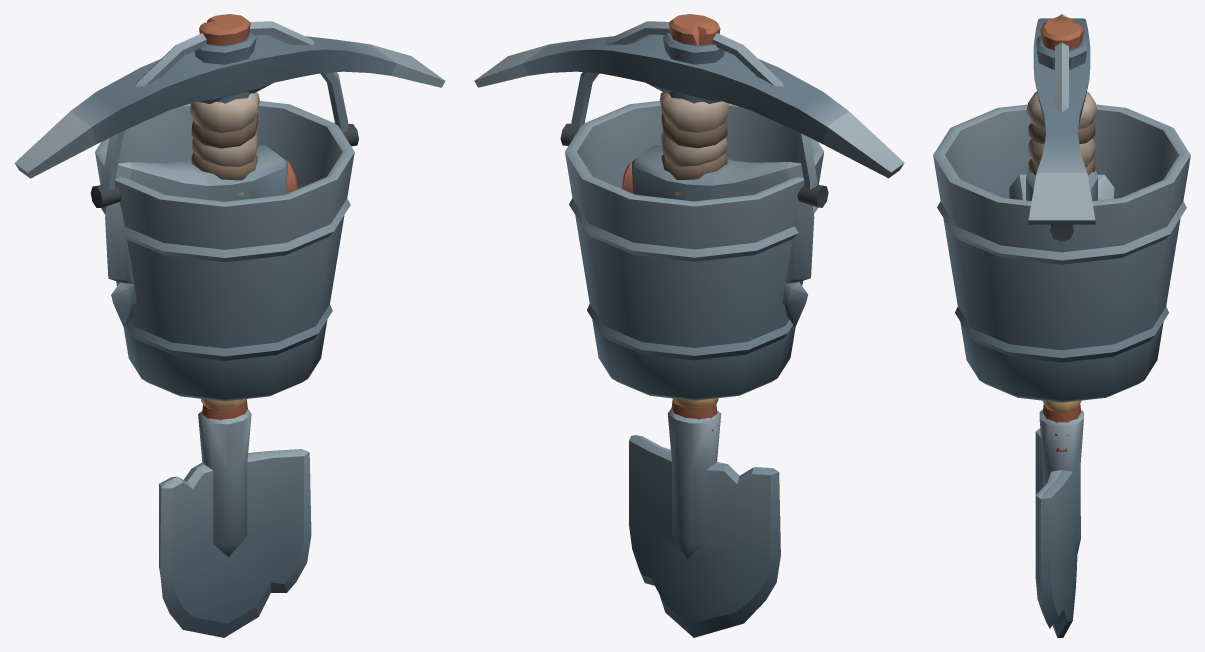
Rendered from tools.glb.
The picture shows the model from 3 angles, left to right: view 1: azimuth 30°, elevation 25°; view 2: azimuth 150°, elevation 25°; view 3: azimuth 270°, elevation 25°; orthographic projection.
Parts seen in each view (by area): view 1: bucket_metal, shovel, pickaxe, axe, torch, bucket_metal_handle; view 2: bucket_metal, shovel, pickaxe, axe, torch, bucket_metal_handle; view 3: bucket_metal, pickaxe, shovel, torch, bucket_metal_handle, hammer, axe.
Boxes of the visible parts, x1,y1,x2,y2 form: bucket_metal: (95, 101, 354, 401); shovel: (159, 158, 311, 637); pickaxe: (14, 14, 445, 407); axe: (105, 145, 287, 405); torch: (190, 92, 259, 197); bucket_metal_handle: (90, 21, 358, 207); bucket_metal: (565, 101, 823, 400); shovel: (622, 158, 780, 637); pickaxe: (474, 14, 904, 407); axe: (632, 144, 814, 326); torch: (659, 92, 729, 197); bucket_metal_handle: (560, 21, 828, 207); bucket_metal: (933, 104, 1190, 402); pickaxe: (1028, 17, 1095, 402); shovel: (1035, 401, 1083, 637); torch: (1026, 91, 1097, 175); bucket_metal_handle: (1050, 14, 1073, 241); hammer: (1009, 174, 1114, 435); axe: (1026, 169, 1097, 451).
Size of the model in its own units: 1.45 by 2.09 by 0.8.
Materials: 1 (1 with a texture image).
